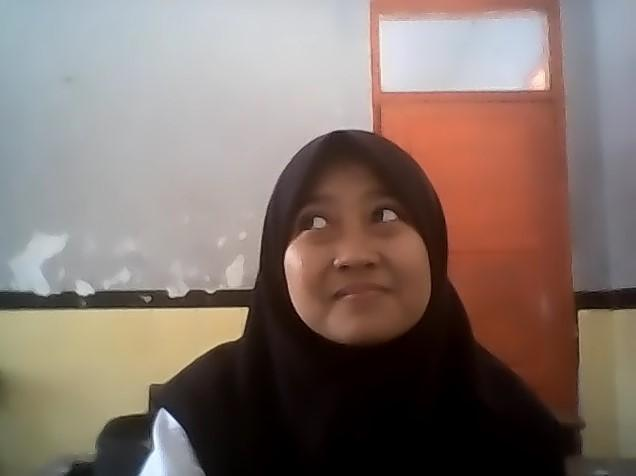cheating: (237, 118, 476, 345)
